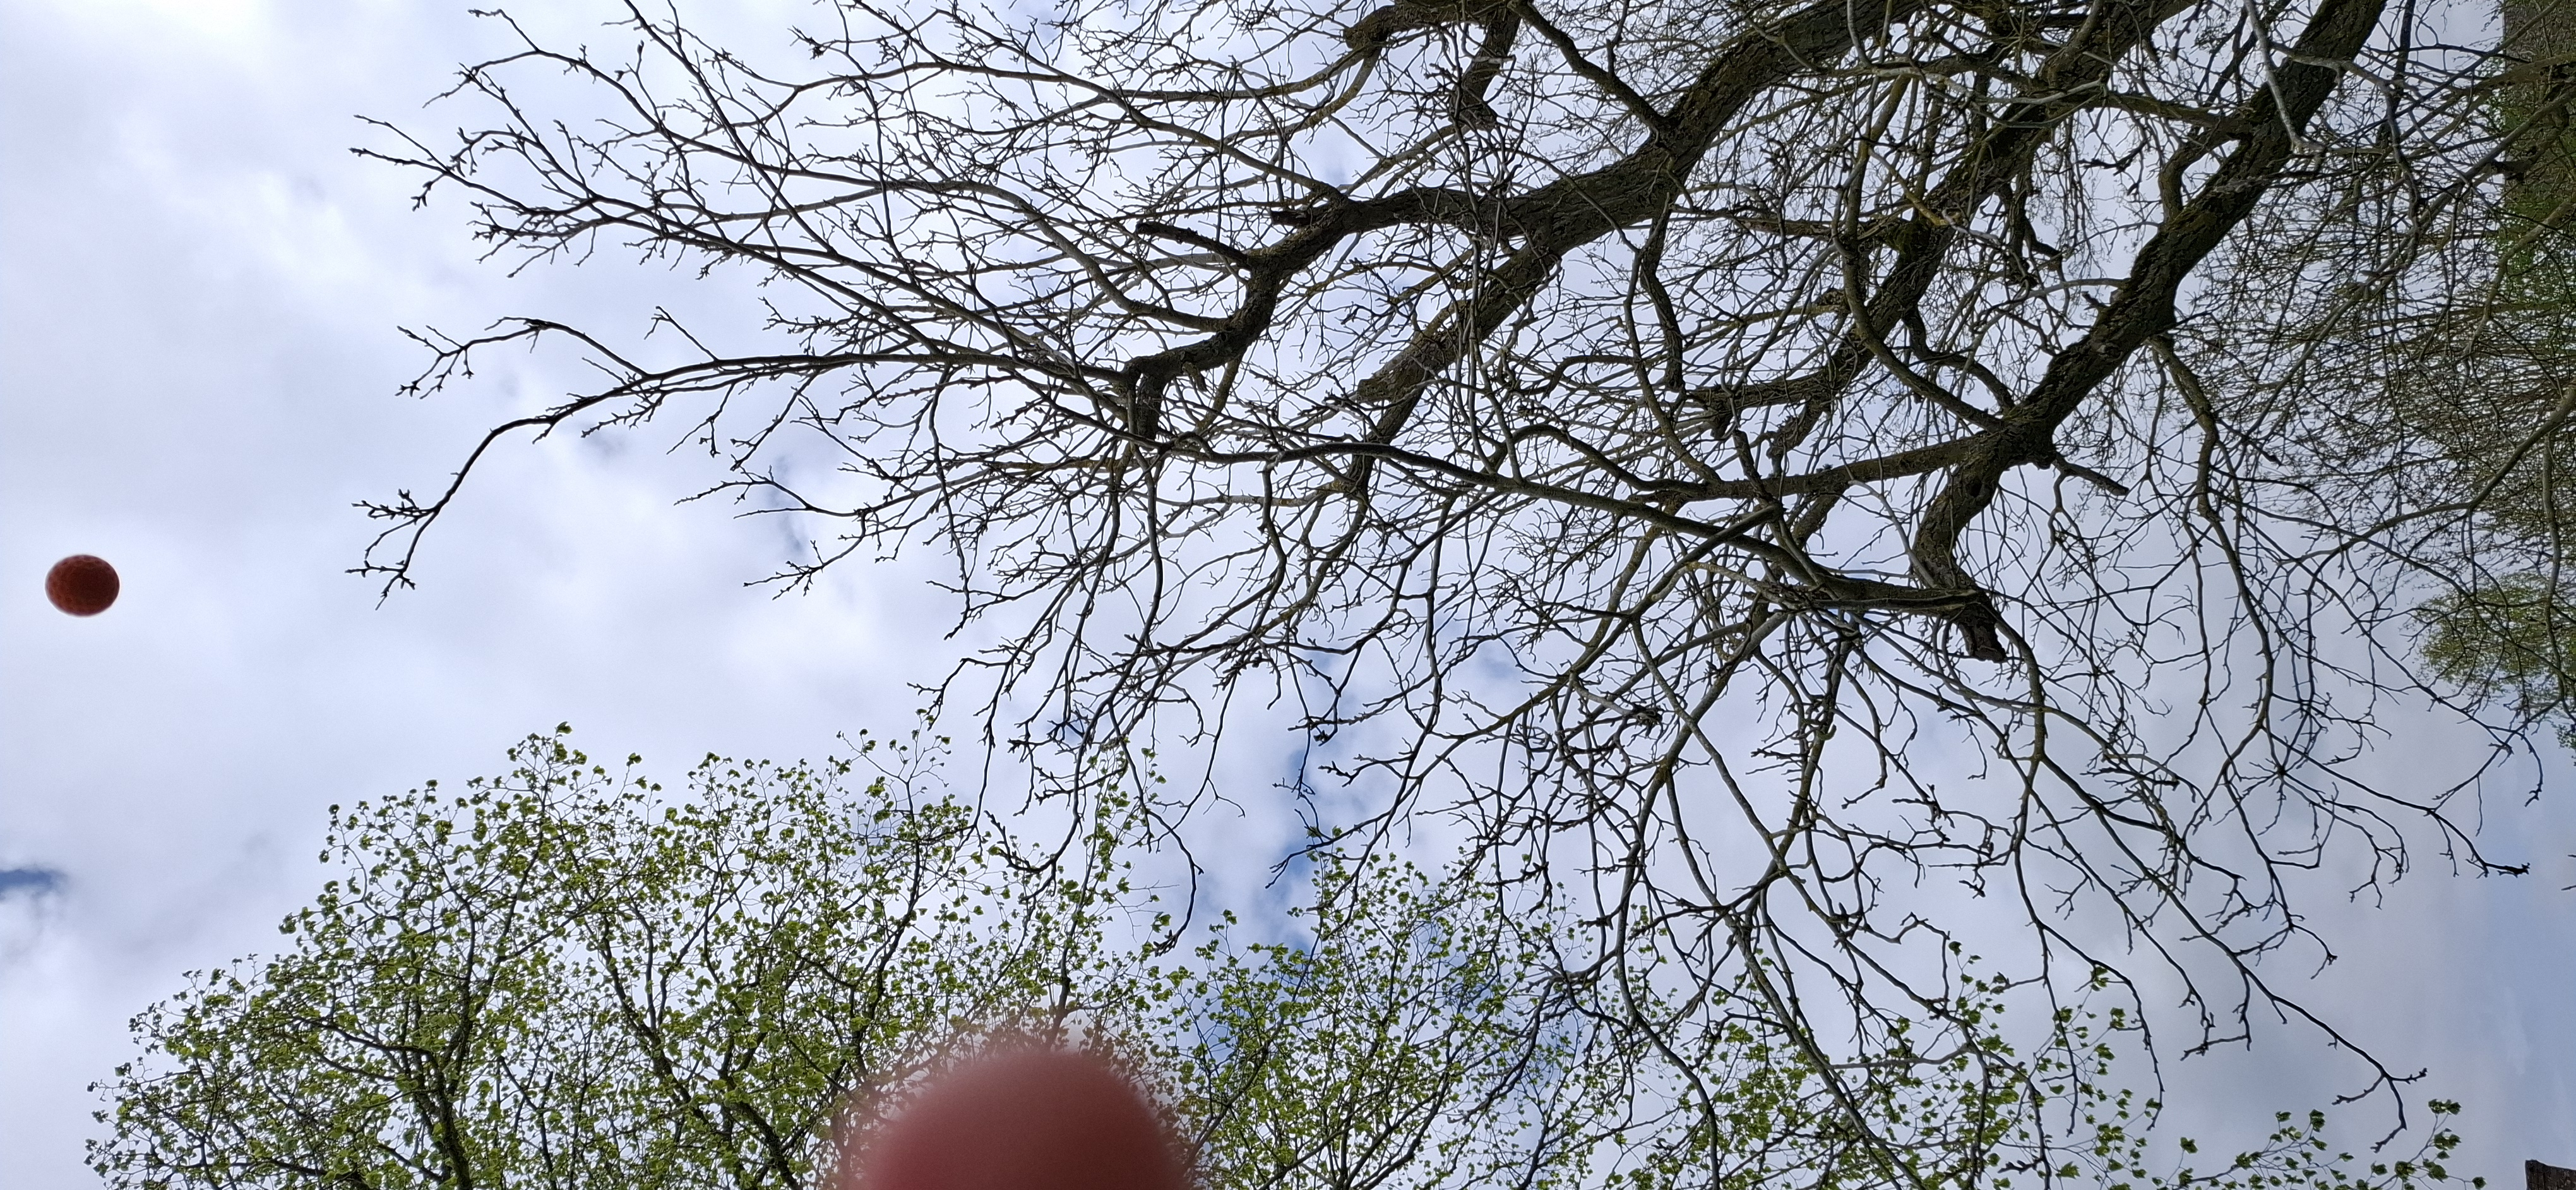ball: (44, 554, 120, 616)
